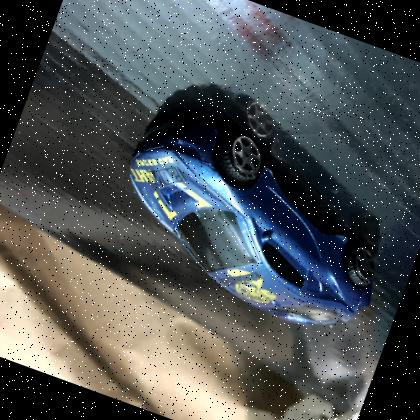Car: (129, 118, 376, 326)
